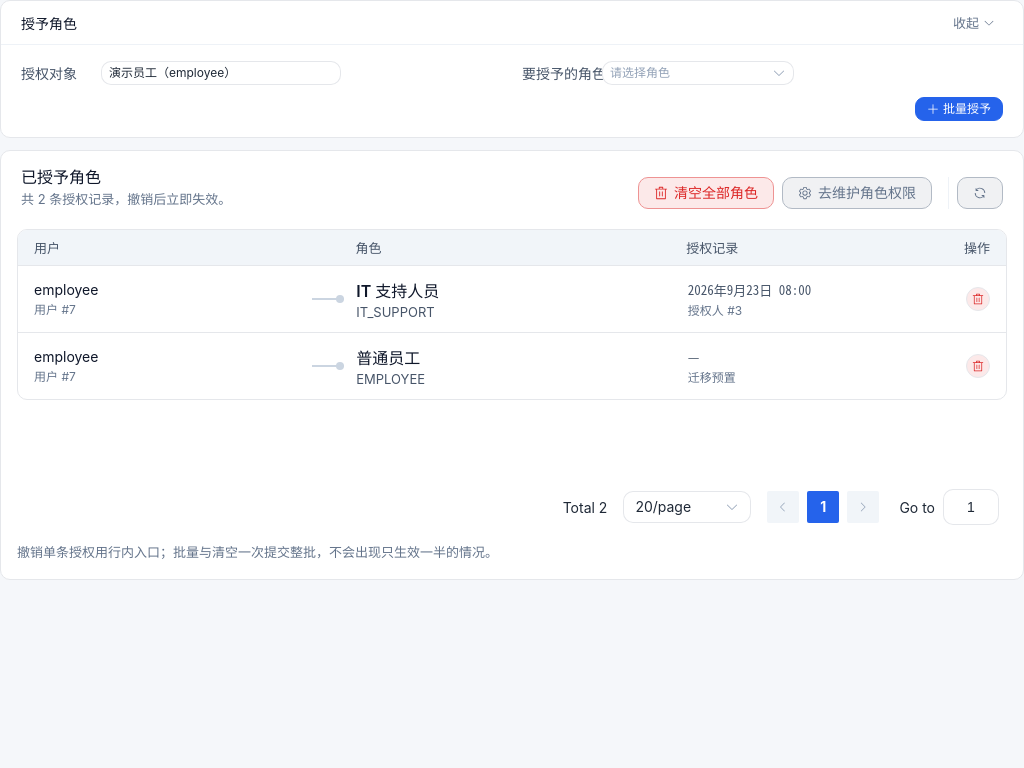
UserRoleGrantView › 没有选角色时提交被拦下，不发请求
What coordinates should you click on to do the following:
click the button "批量授予"
I would click on:
 (959, 109)
Its box is left=915, top=97, right=1003, bottom=121.
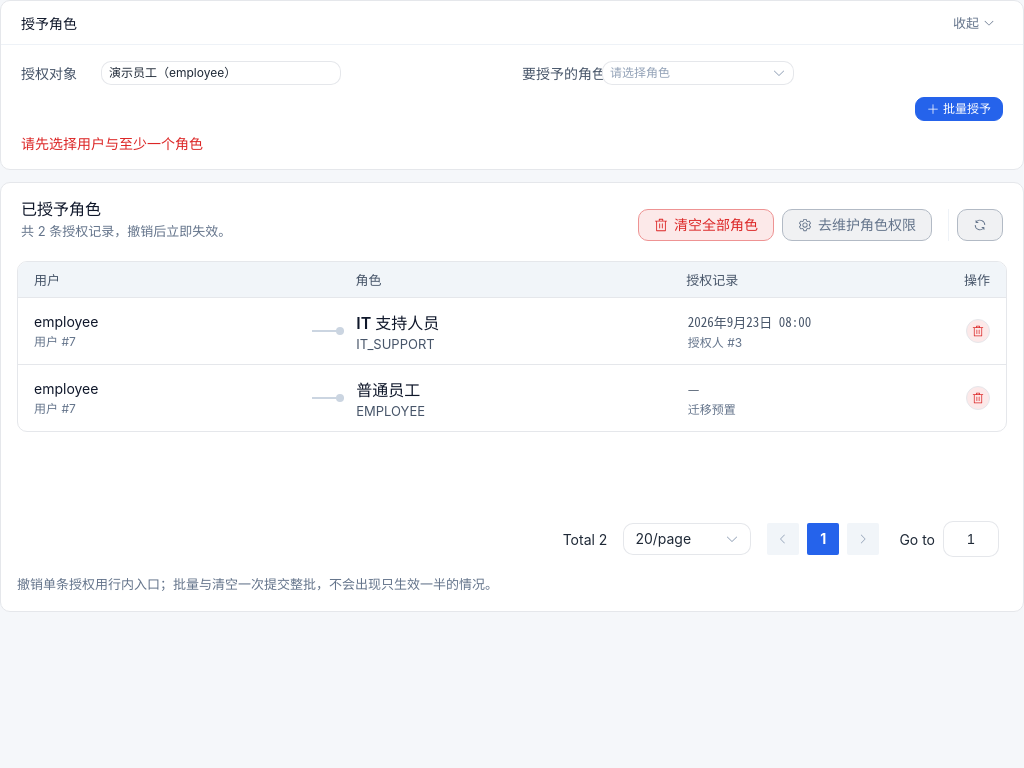
Expected: the message "请先选择用户与至少一个角色" is shown, left=21, top=135, right=203, bottom=152
